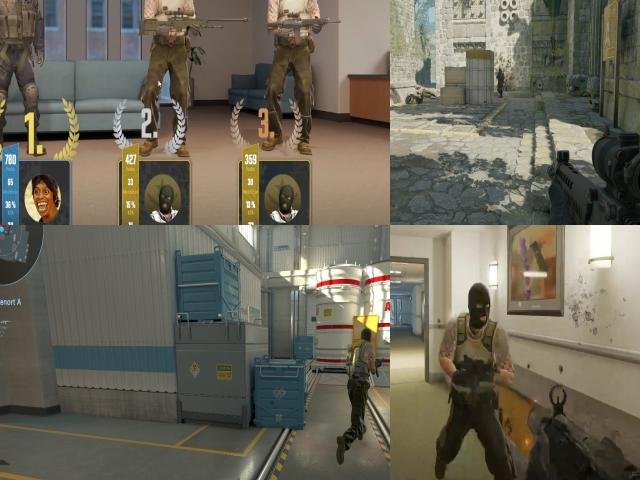Bomb: (346, 344, 356, 368)
CT: (0, 0, 44, 77), (493, 65, 508, 100)
CT-Head: (498, 67, 504, 78)
Dead: (400, 94, 424, 111), (417, 87, 437, 102)
T: (438, 314, 514, 403), (267, 0, 325, 77), (342, 327, 377, 452), (142, 0, 193, 72)
T-Head: (458, 277, 502, 340), (358, 328, 373, 347)
